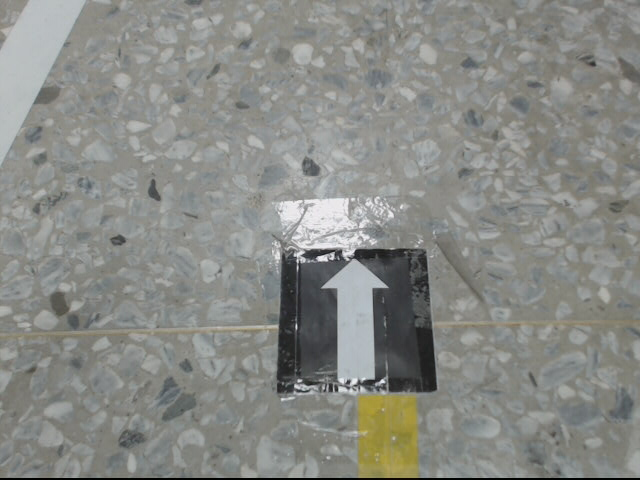straight: (277, 249, 440, 393)
